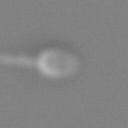normal: (1, 48, 39, 70)
